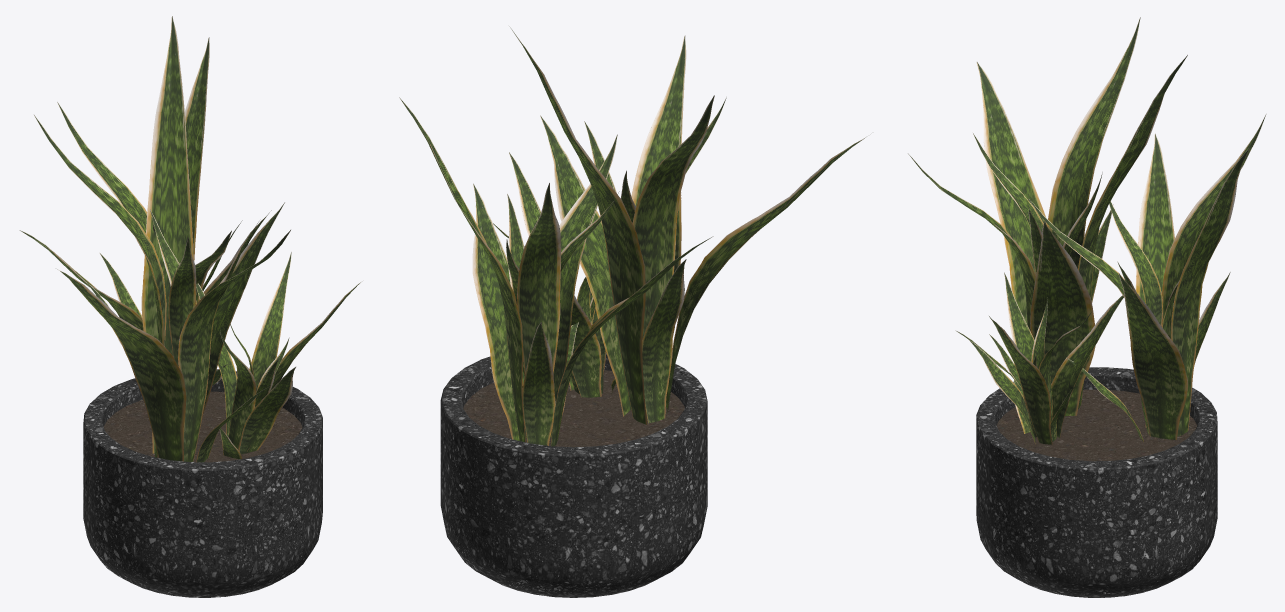
Rendered from plant5.glb.
The picture shows the model from 3 angles, left to right: view 1: azimuth 30°, elevation 25°; view 2: azimuth 150°, elevation 25°; view 3: azimuth 270°, elevation 25°; orthographic projection. The views are drawn at different scales.
Parts seen in each view (by area): view 1: SnakePlant_03; view 2: SnakePlant_03; view 3: SnakePlant_03.
Boxes of the visible parts, <box> form: SnakePlant_03: <box>19,16,360,597</box>; SnakePlant_03: <box>399,26,865,597</box>; SnakePlant_03: <box>908,17,1266,597</box>.
Bounding box in the file's own units: 0.3427 × 0.5096 × 0.3258.
Materials: 3 (3 with a texture image).
